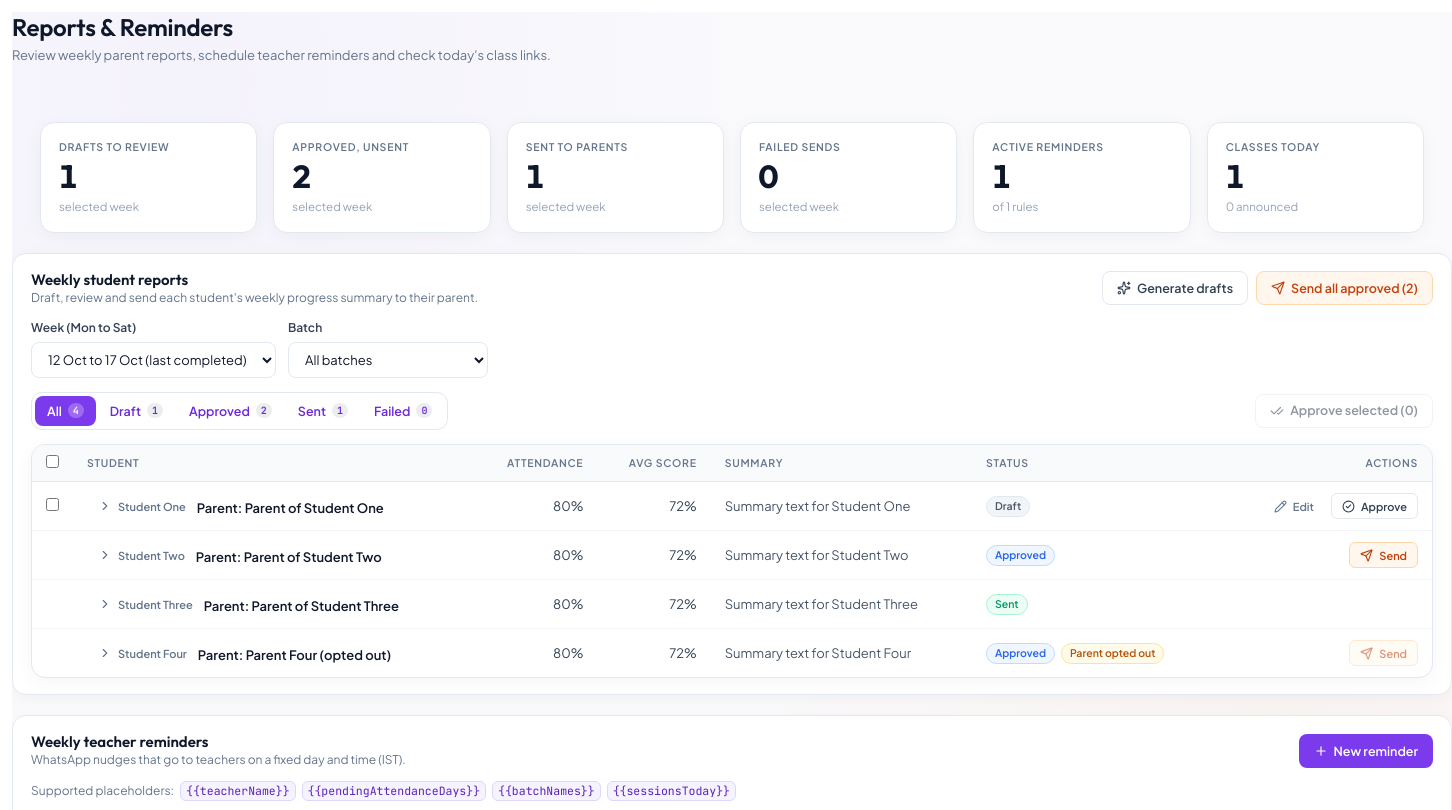
Test case: ReportsView: weekly reports › does not offer edit for non-draft rows but expands the full summary
What coordinates should you click on to do the following:
click the button with aria-label "Expand report for Student Two"
I would click on:
 (141, 555)
Its box is top-left (87, 542), bottom-right (196, 568).
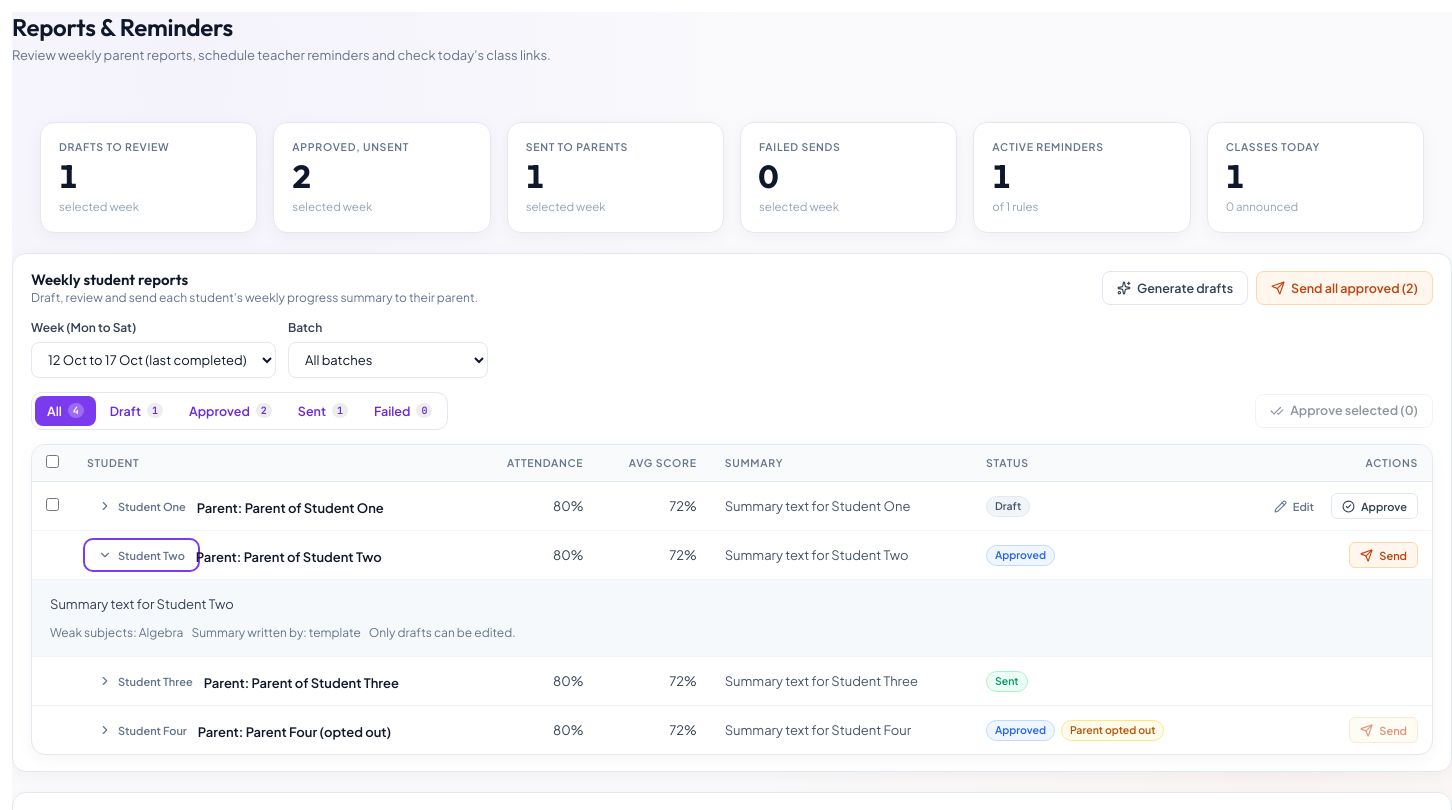
Expected: the text "Only drafts can be edited." is shown, top-left (369, 624), bottom-right (516, 642)
